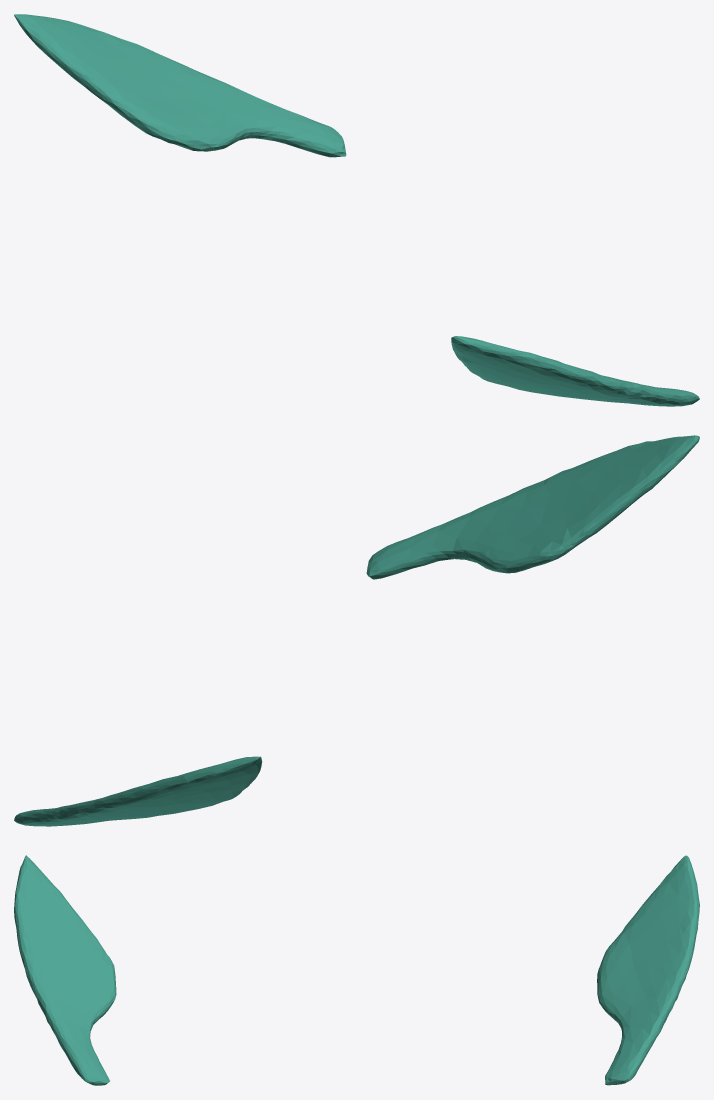
3 views of the same model, one above another, from view 1: azimuth 30°, elevation 25°; view 2: azimuth 150°, elevation 25°; view 3: azimuth 270°, elevation 25° (orthographic). The views are drawn at different scales.
Visible parts, largest first — view 1: 450.obj; view 2: 450.obj; view 3: 450.obj.
Boxes of the visible parts, x1,y1,x2,y2 form: 450.obj: [14, 14, 699, 406]; 450.obj: [14, 435, 699, 826]; 450.obj: [14, 855, 699, 1085].
Bounding box in the file's own units: 2279 × 1294 × 6243.
